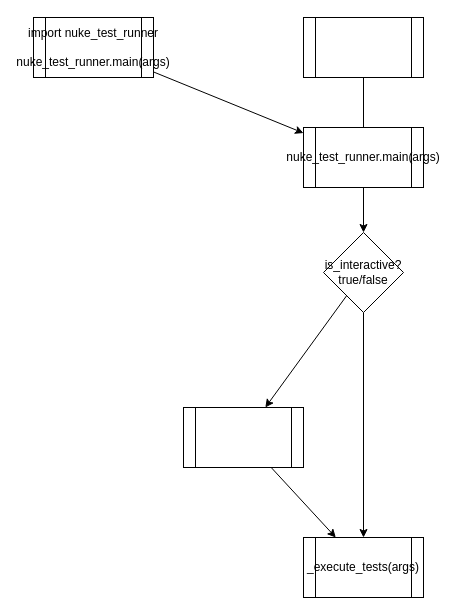
This 457x615 diagram has some shape labels left out. The shapes that lost their labels are listed below. From the top down, each one's centre as x and y in pixels, then its label:
[363,47]: nuke-test-runner --test/folder
[243,437]: run subprocess()
